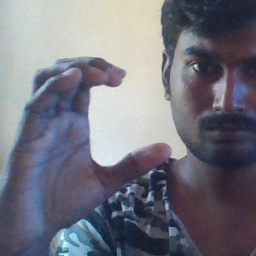C: (45, 50, 175, 201)
